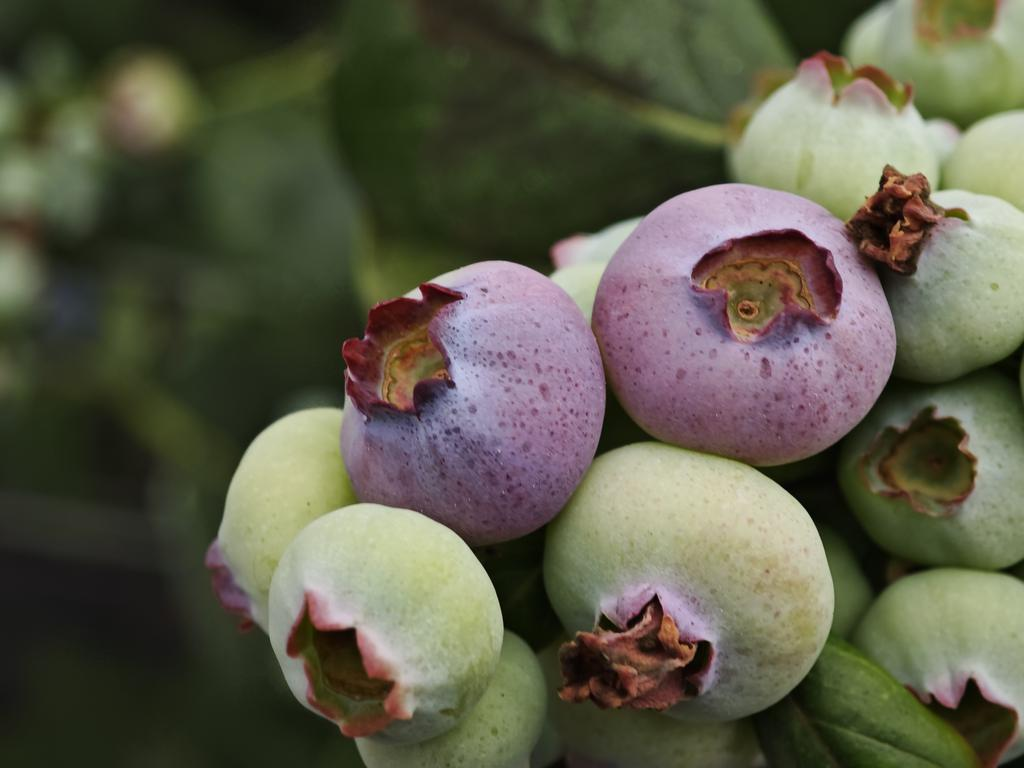Semi-RipeBlueBerry: (587, 175, 900, 468), (335, 255, 611, 548)
UnripeBlueBerry: (537, 438, 839, 729), (265, 499, 510, 750)
